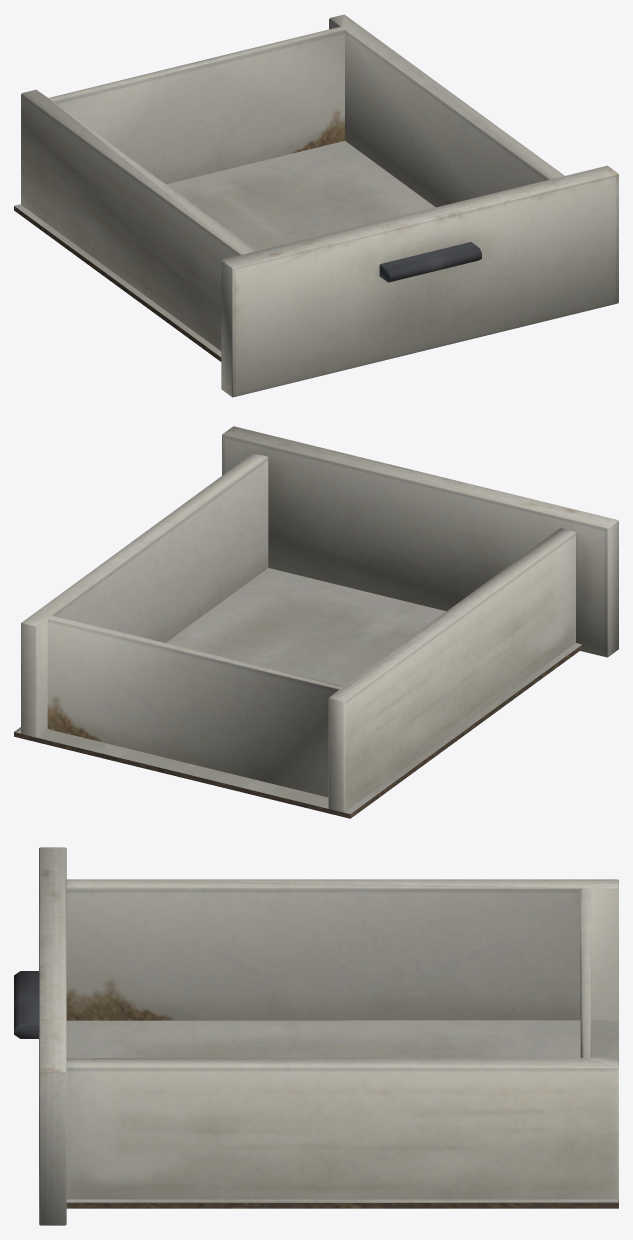
Rendered from desk_work_drawer.dae.
3 renders of one model, top to bottom at view 1: azimuth 30°, elevation 25°; view 2: azimuth 150°, elevation 25°; view 3: azimuth 270°, elevation 25°, orthographic. The views are drawn at different scales.
Parts seen in each view (by area): view 1: polySurface45; view 2: polySurface45; view 3: polySurface45.
Part boxes in pixels (box(x1,y1,x2,y2)): polySurface45: box(14, 14, 618, 397); polySurface45: box(14, 426, 618, 818); polySurface45: box(14, 847, 618, 1225).
Size of the model in its own units: 0.4995 by 0.1606 by 0.5683.
